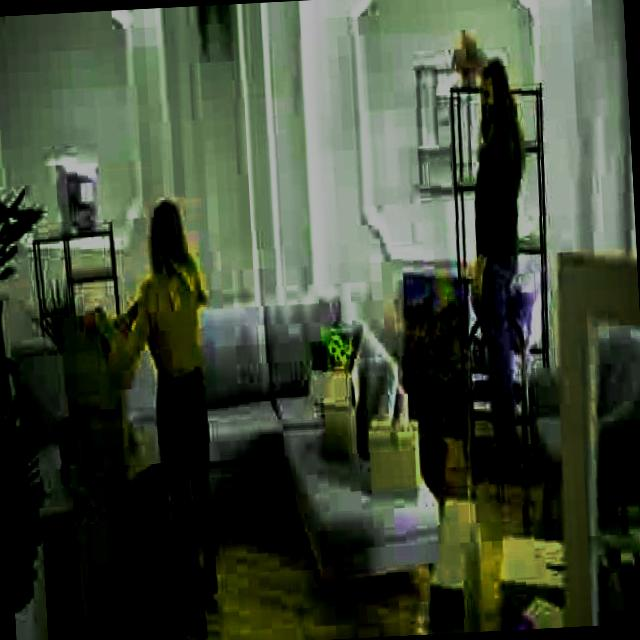Box: (80, 473, 168, 638), (427, 500, 480, 622), (61, 328, 126, 416), (304, 365, 359, 461), (364, 412, 421, 501), (496, 536, 564, 608), (72, 406, 128, 473)
